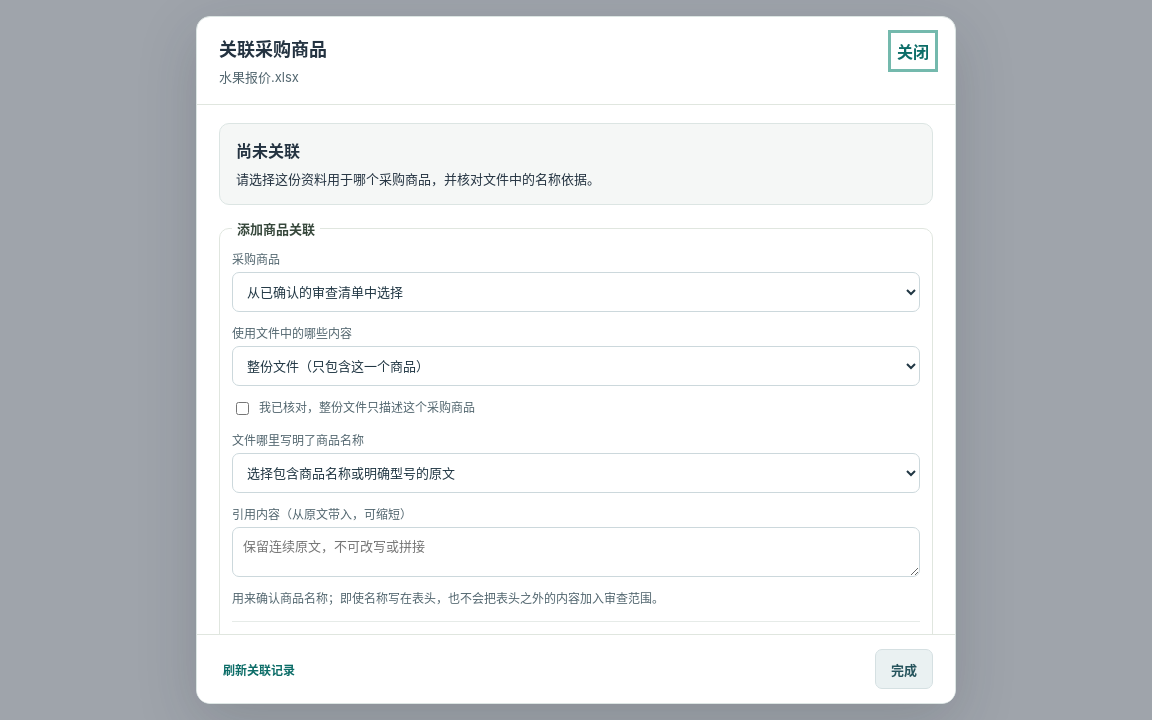
Scenario: local validation errors are visible without dropping the current form values
The image size is (1152, 720).
Type "尚未核对的摘录" into the text box with test id "binding-quote".
click(576, 552); type("尚未核对的摘录")  # box [232,527,920,577]
(page scrolled)
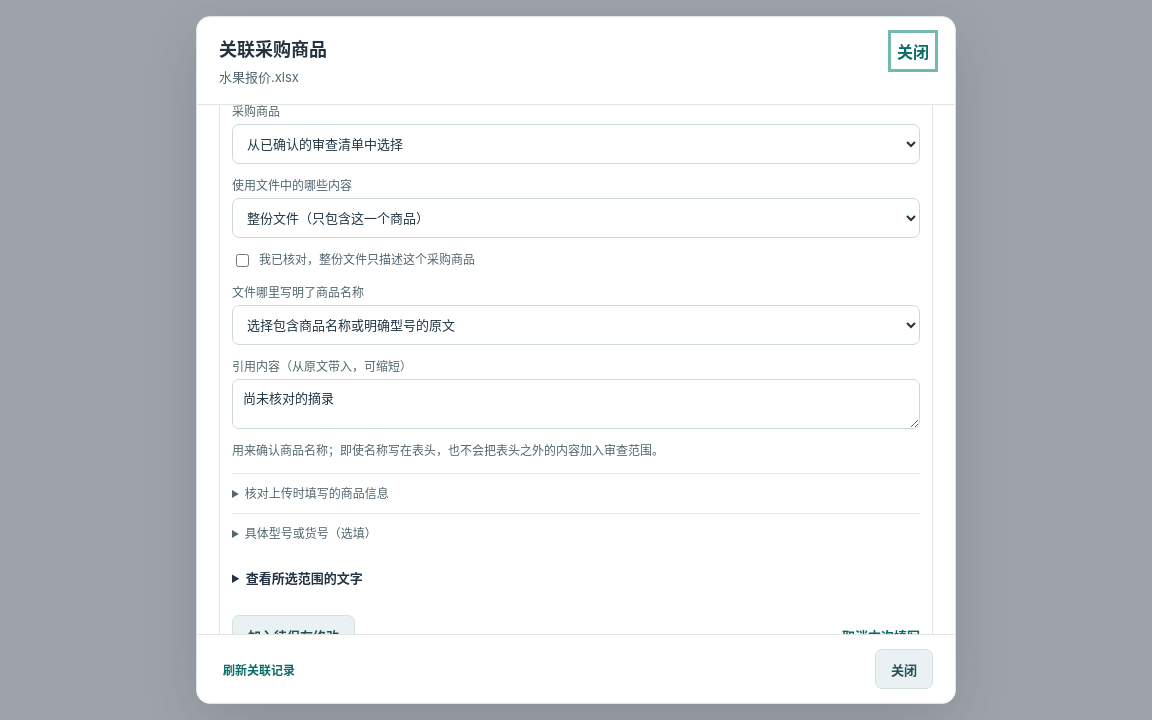
Submit the form with test id "binding-entry-form", box [219,71,933,668]
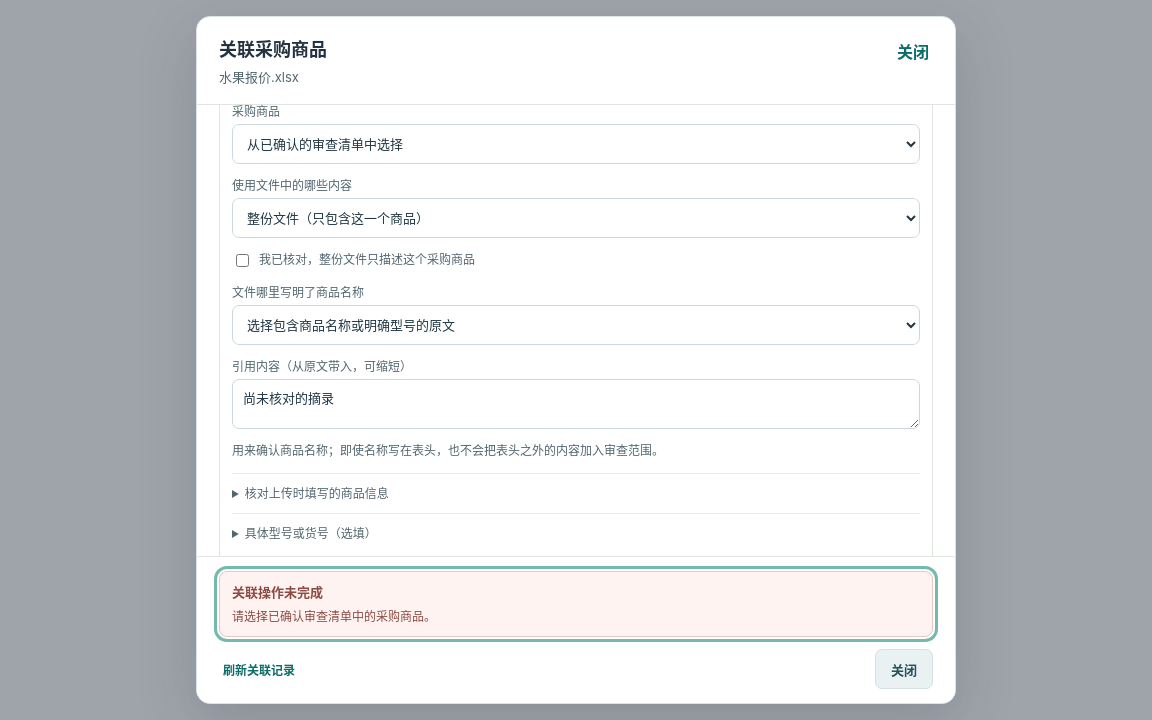
Check: the message with class "binding-feedback" shows "请选择已确认审查清单中的采购商品", box [232,609,436,624]
